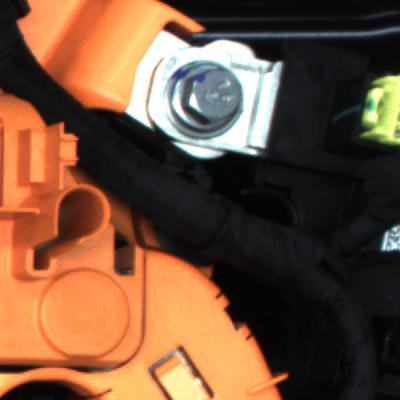nut_b: (151, 54, 244, 145)
